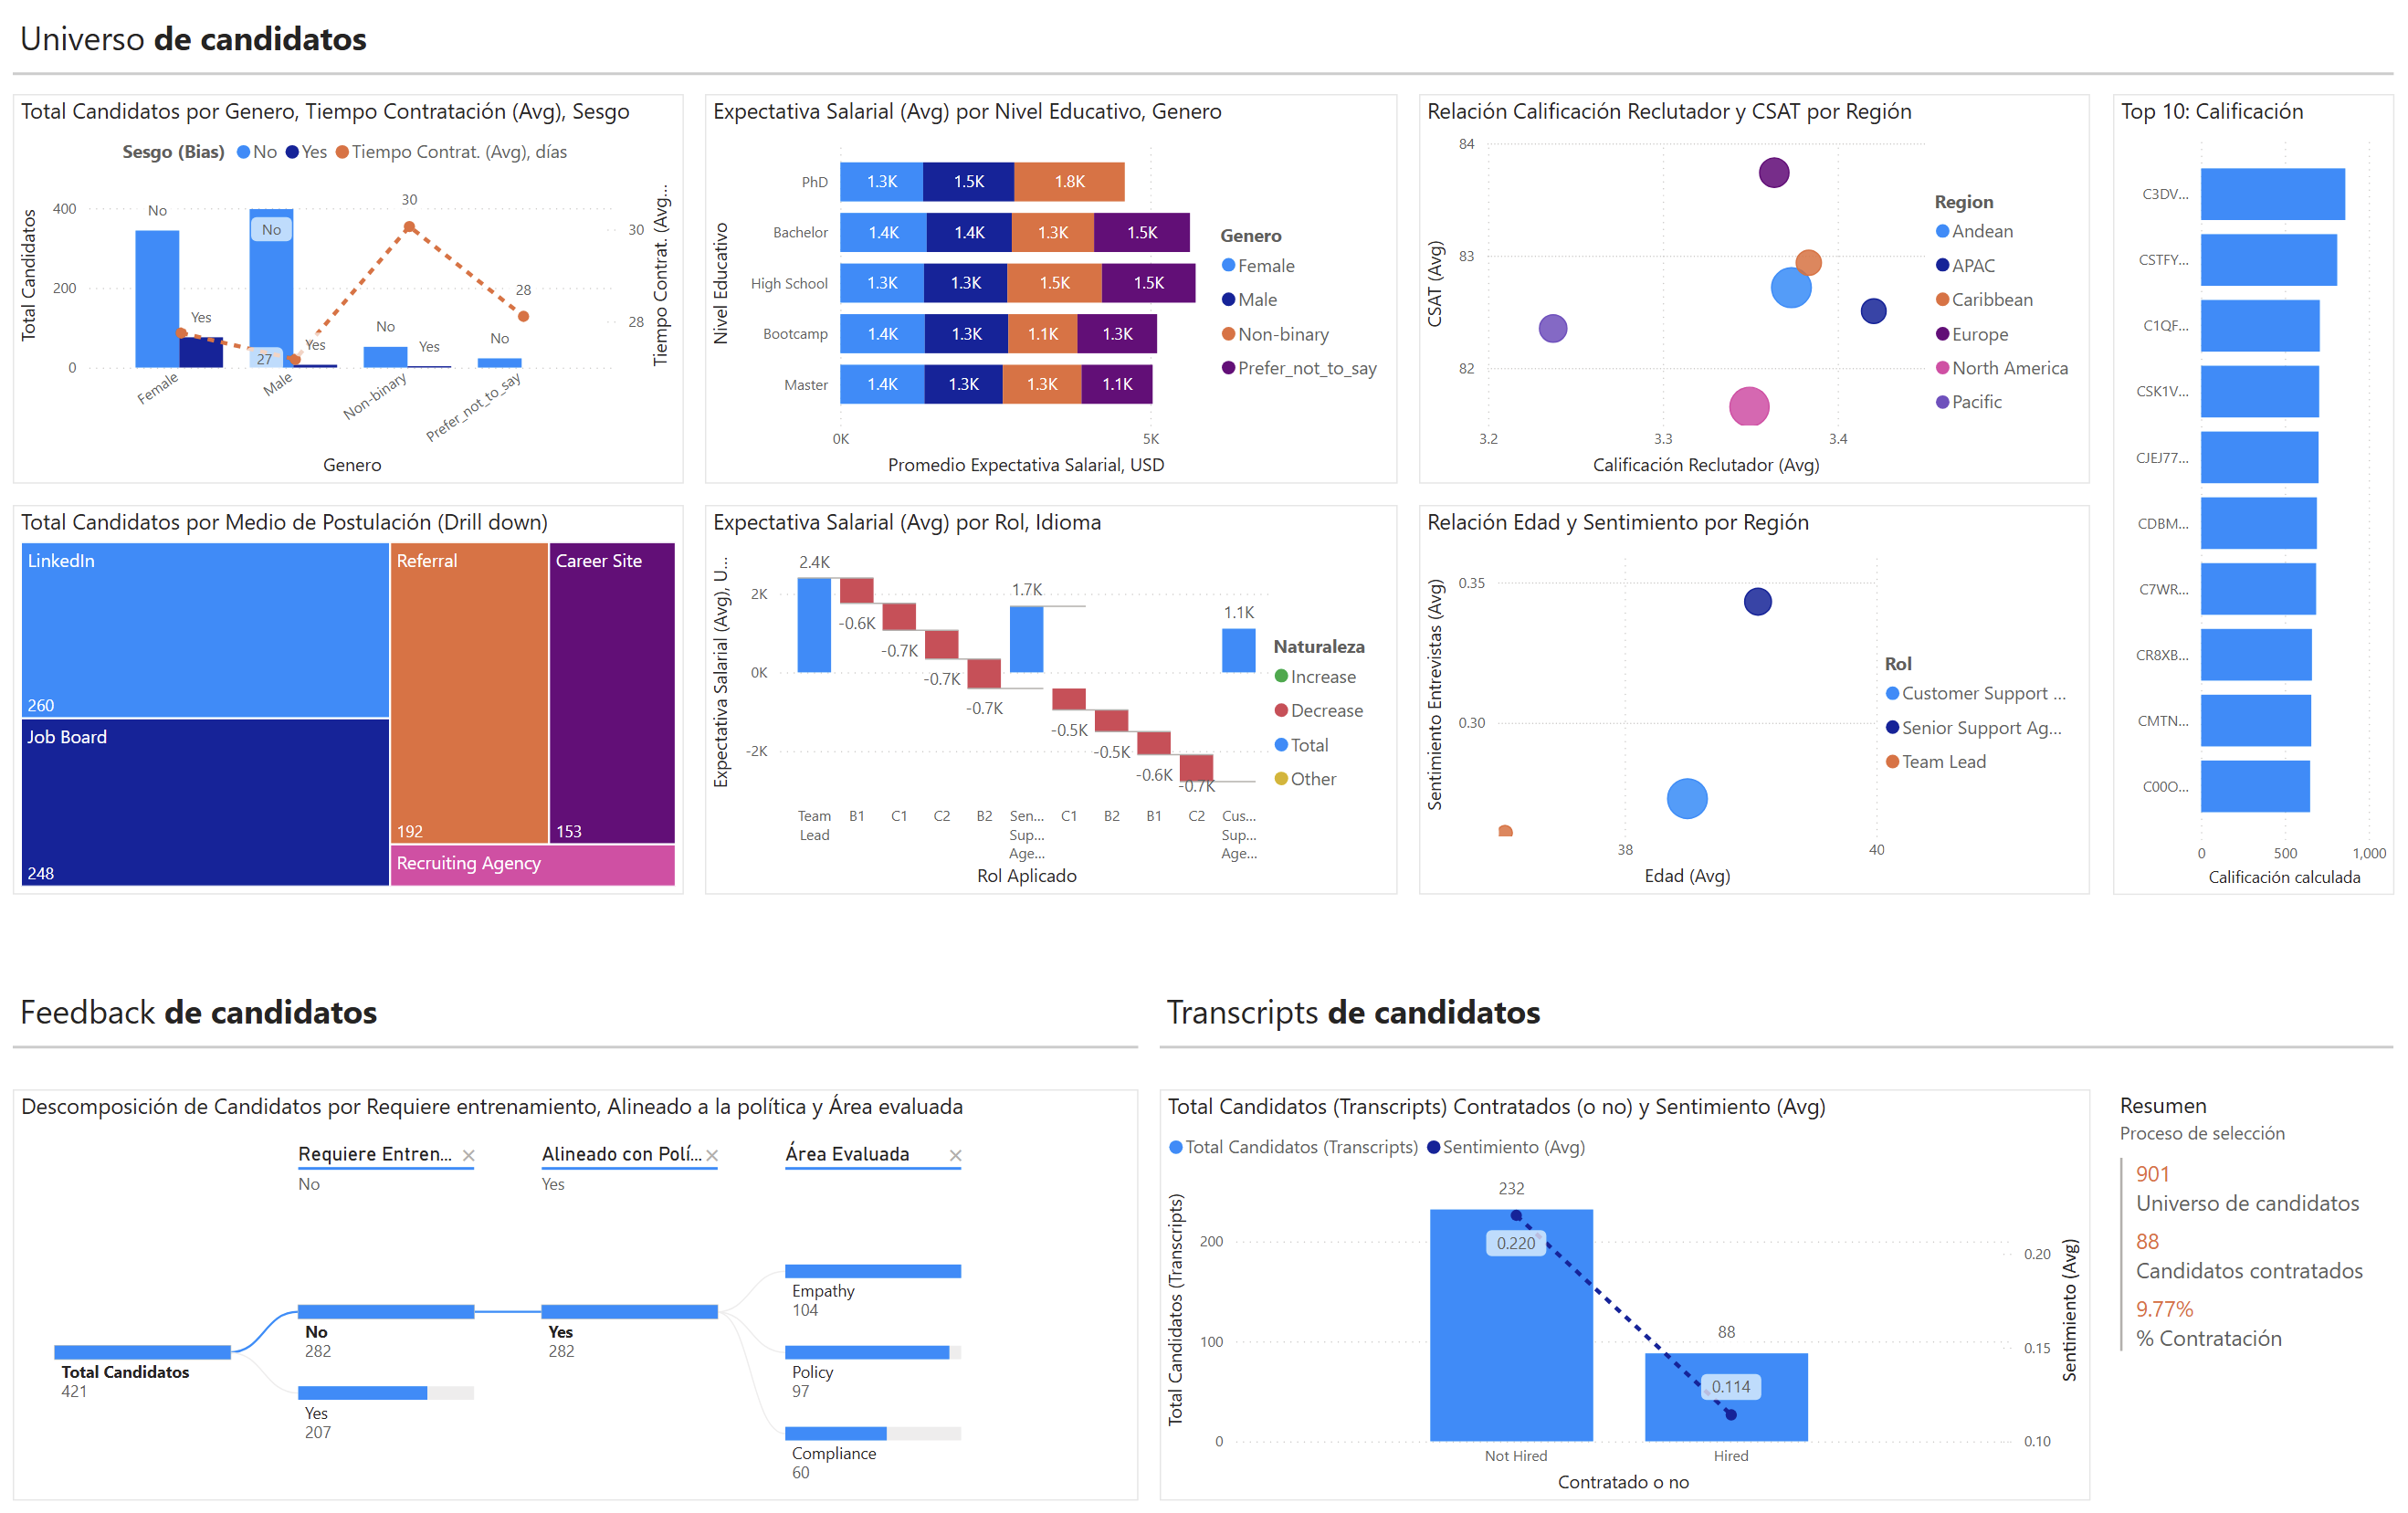

This screenshot's page, from the dashboard's own definition file:
{"tool":"powerbi","page":{"name":"Candidatos","canvas":[1800,1169],"ordinal":0},"visuals":[{"type":"lineClusteredColumnComboChart","title":"Total Candidatos por Genero, Tiempo Contratación (Avg), Sesgo","fields":{"Category":["loris_candidates.Gender"],"Y":["loris_candidates.Candidate_ID"],"Y2":["loris_candidates.Time_to_Hire_Days"],"Series":["loris_candidates.Bias_Flag"]},"box":[16,80,496,288],"z":0},{"type":"barChart","title":"Expectativa Salarial (Avg) por Nivel Educativo, Genero","fields":{"Category":["loris_candidates.Education_Level"],"Y":["loris_candidates.Salary_Expectation_USD"],"Series":["loris_candidates.Gender"]},"box":[528,80,512,288],"z":1000},{"type":"scatterChart","title":"Relación Calificación Reclutador y CSAT por Región","fields":{"X":["loris_candidates.Manager_Score"],"Series":["loris_candidates.Region"],"Size":["loris_candidates.Candidate_ID"],"Y":["loris_candidates.CSAT_Prior"]},"box":[1056,80,496,288],"z":2000},{"type":"textbox","box":[16,16,336,48],"z":3000},{"type":"shape","box":[16,48,1760,32],"z":4000},{"type":"scatterChart","title":"Relación Edad y Sentimiento por Región","fields":{"X":["loris_candidates.Age"],"Size":["loris_candidates.Candidate_ID"],"Series":["loris_candidates.Role_Applied"],"Y":["loris_candidates.Interview_Sentiment"]},"box":[1056,384,496,288],"z":5000},{"type":"treemap","title":"Total Candidatos por Medio de Postulación (Drill down)","fields":{"Group":["loris_candidates.Application_Channel","loris_candidates.Role_Applied"],"Values":["loris_candidates.Candidate_ID"]},"box":[16,384,496,288],"z":6000},{"type":"barChart","title":"Top 10: Calificación","fields":{"Category":["loris_candidates.Candidate_ID"],"Y":["loris_candidates.Calculated_Score"]},"box":[1568,80,208,592],"z":7000},{"type":"decompositionTreeVisual","title":"Descomposición de Candidatos por Requiere entrenamiento, Alineado a la política y Área evaluada","fields":{"Analyze":["loris_qa_feedback.Candidate_ID"],"ExplainBy":["loris_qa_feedback.Coaching_Required","loris_qa_feedback.Alignment_with_Policy","loris_qa_feedback.Category"]},"box":[16,816,832,304],"z":8000},{"type":"lineClusteredColumnComboChart","title":"Total Candidatos (Transcripts) Contratados (o no) y Sentimiento (Avg)","fields":{"Category":["loris_transcripts.Outcome"],"Y":["loris_transcripts.Candidate_ID"],"Y2":["loris_transcripts.Sentiment_Score"]},"box":[864,816,688,304],"z":9000},{"type":"textbox","box":[16,736,336,48],"z":10000},{"type":"shape","box":[16,768,832,32],"z":11000},{"type":"textbox","box":[864,736,336,48],"z":12000},{"type":"shape","box":[864,768,912,32],"z":13000},{"type":"multiRowCard","title":"Resumen","fields":{"Values":["Measure.Universo_Candidatos","Measure.Candidatos_Contratados","Measure.% Contratación"]},"box":[1568,816,208,304],"z":14000},{"type":"waterfallChart","title":"Expectativa Salarial (Avg) por Rol, Idioma","fields":{"Y":["loris_candidates.Salary_Expectation_USD"],"Breakdown":["loris_candidates.Language_Proficiency"],"Category":["loris_candidates.Role_Applied"]},"box":[528,384,512,288],"z":15000}]}

Visuals, with their boxes on the page's 1800x1169 design canvas (x1, y1, x2, y2). These are canvas units, not pixel positions in the 2408x1513 screenshot, which may show the page scaled, cropped or inside an application window:
"Total Candidatos por Genero, Tiempo Contratación (Avg), Sesgo" lineClusteredColumnComboChart: l=16, t=80, r=512, b=368
"Expectativa Salarial (Avg) por Nivel Educativo, Genero" barChart: l=528, t=80, r=1040, b=368
"Relación Calificación Reclutador y CSAT por Región" scatterChart: l=1056, t=80, r=1552, b=368
textbox: l=16, t=16, r=352, b=64
shape: l=16, t=48, r=1776, b=80
"Relación Edad y Sentimiento por Región" scatterChart: l=1056, t=384, r=1552, b=672
"Total Candidatos por Medio de Postulación (Drill down)" treemap: l=16, t=384, r=512, b=672
"Top 10: Calificación" barChart: l=1568, t=80, r=1776, b=672
"Descomposición de Candidatos por Requiere entrenamiento, Alineado a la política y Área evaluada" decompositionTreeVisual: l=16, t=816, r=848, b=1120
"Total Candidatos (Transcripts) Contratados (o no) y Sentimiento (Avg)" lineClusteredColumnComboChart: l=864, t=816, r=1552, b=1120
textbox: l=16, t=736, r=352, b=784
shape: l=16, t=768, r=848, b=800
textbox: l=864, t=736, r=1200, b=784
shape: l=864, t=768, r=1776, b=800
"Resumen" multiRowCard: l=1568, t=816, r=1776, b=1120
"Expectativa Salarial (Avg) por Rol, Idioma" waterfallChart: l=528, t=384, r=1040, b=672
